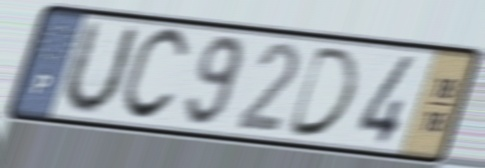2: (229, 40, 302, 134)
4: (352, 53, 424, 148)
9: (184, 33, 246, 130)
C: (115, 25, 192, 126)
D: (281, 44, 364, 140)
U: (56, 17, 143, 117)
